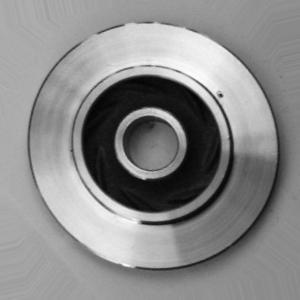crack: (211, 84, 230, 101)
scratch: (103, 201, 149, 229)
unpolished_casting: (23, 19, 282, 272)
